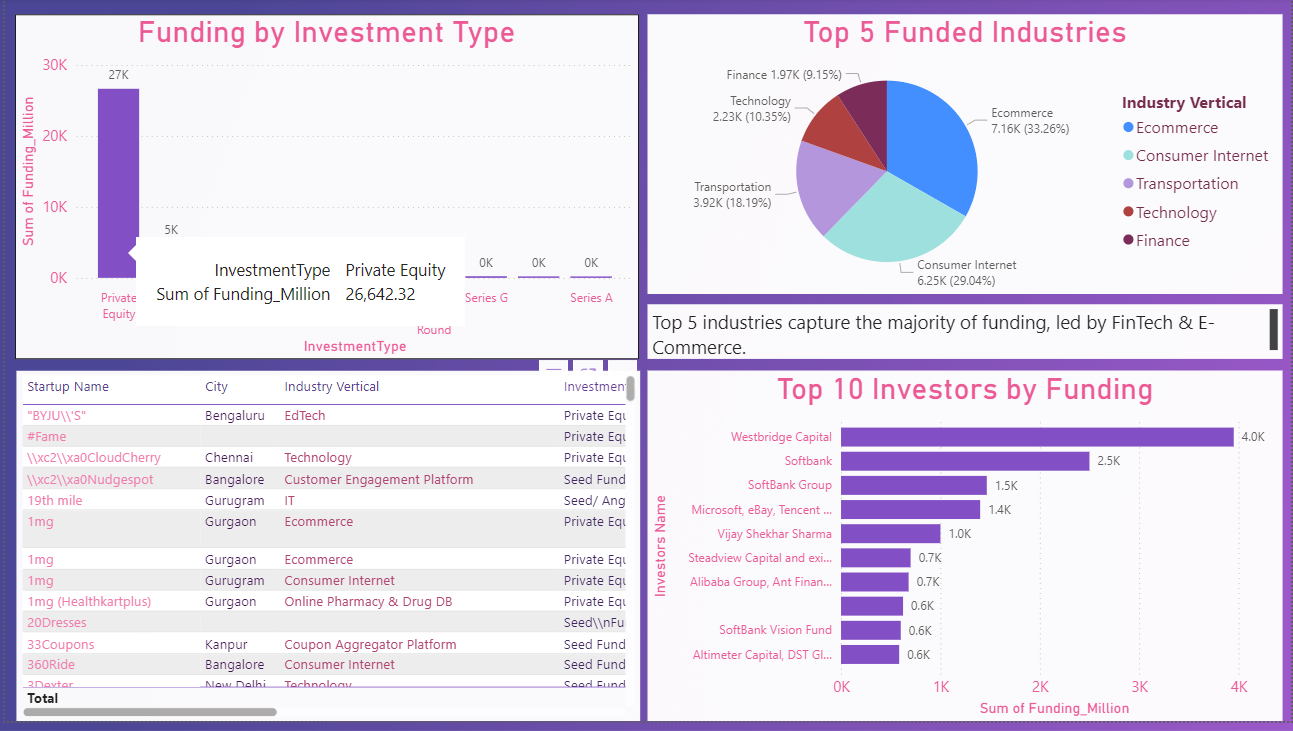

This screenshot's page, from the dashboard's own definition file:
{"tool":"powerbi","page":{"name":"Page 2","canvas":[1280,720],"ordinal":1},"visuals":[{"type":"columnChart","title":"Funding by Investment Type","fields":{"Category":["cleaned_startup_data.InvestmentType"],"Y":["cleaned_startup_data.Funding_Million"]},"box":[10,16.2,620.7,343.3],"z":0},{"type":"pieChart","title":"Top 5 Funded Industries","fields":{"Category":["cleaned_startup_data.Industry Vertical"],"Y":["cleaned_startup_data.Funding_Million"]},"box":[639.4,16.2,631.9,278.6],"z":1000},{"type":"textbox","box":[639.4,304.8,631.9,54.7],"z":2000},{"type":"tableEx","fields":{"Values":["cleaned_startup_data.Startup Name","cleaned_startup_data.City","cleaned_startup_data.Industry Vertical","cleaned_startup_data.InvestmentType","cleaned_startup_data.Funding_Million","cleaned_startup_data.Investors Name"]},"box":[11.2,370.7,620.7,349.6],"z":3000},{"type":"clusteredColumnChart","fields":{"Y":["cleaned_startup_data.City"],"Category":["cleaned_startup_data.Funding_Million"]},"box":[639,371,632,349],"z":3001}]}

Visuals, with their boxes in screenshot pixels (x1, y1, x2, y2), scaled from the page's 1280x720 canvas onto the 1293x731 screenshot:
"Funding by Investment Type" columnChart: <bbox>10, 16, 637, 365</bbox>
"Top 5 Funded Industries" pieChart: <bbox>646, 16, 1284, 299</bbox>
textbox: <bbox>646, 309, 1284, 365</bbox>
tableEx - cleaned_startup_data.Startup Name x cleaned_startup_data.City: <bbox>11, 376, 638, 730</bbox>
clusteredColumnChart - cleaned_startup_data.City x cleaned_startup_data.Funding_Million: <bbox>645, 377, 1284, 730</bbox>
